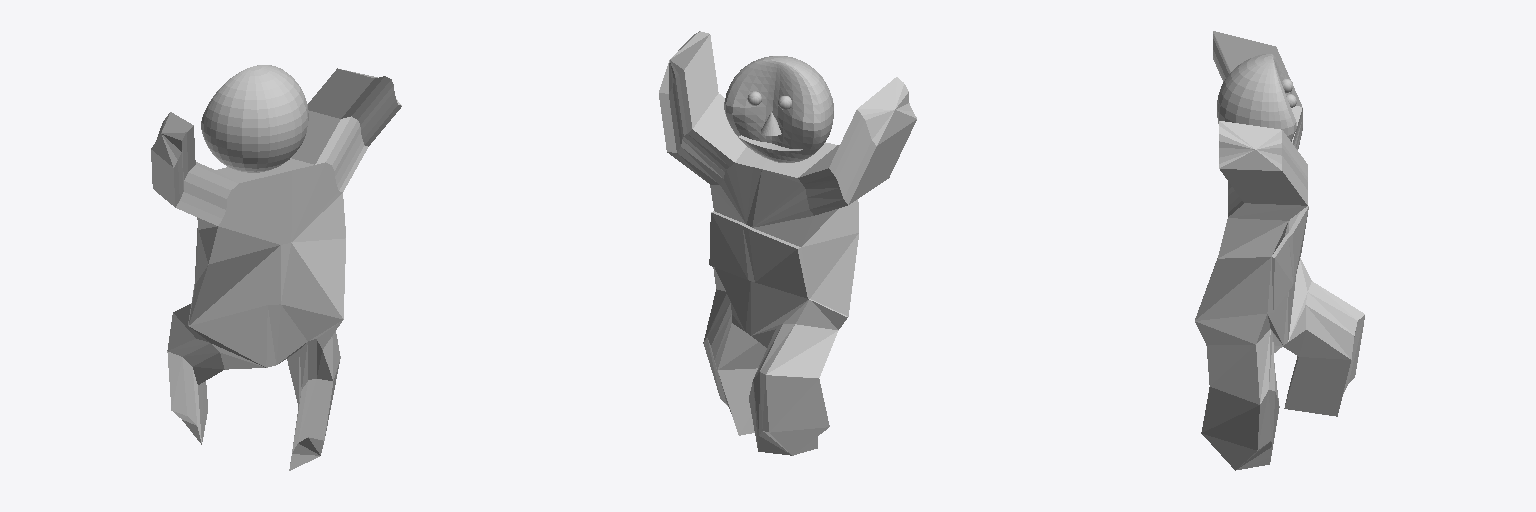
The model's file is man_000018.obj.
3 views of the same model, side by side, from view 1: azimuth 30°, elevation 25°; view 2: azimuth 150°, elevation 25°; view 3: azimuth 270°, elevation 25° (orthographic).
Visible parts, largest first — view 1: Cube; view 2: Cube; view 3: Cube.
Part boxes in pixels (left/top/right/bottom): Cube: left=151, top=65, right=401, bottom=470; Cube: left=659, top=31, right=916, bottom=455; Cube: left=1195, top=31, right=1364, bottom=470.
Bounding box in the file's own units: 79.08 × 126 × 50.53.